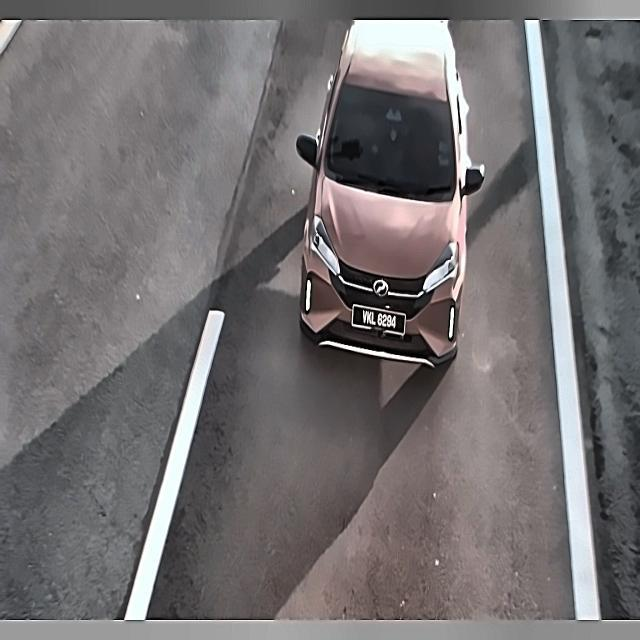car: (349, 294, 410, 345)
